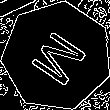M_SE: (23, 23, 91, 89)
